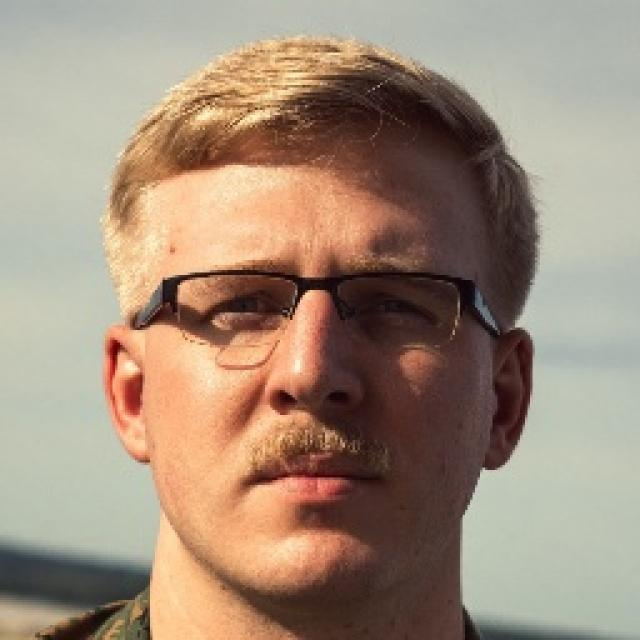glasses: (111, 252, 516, 372)
